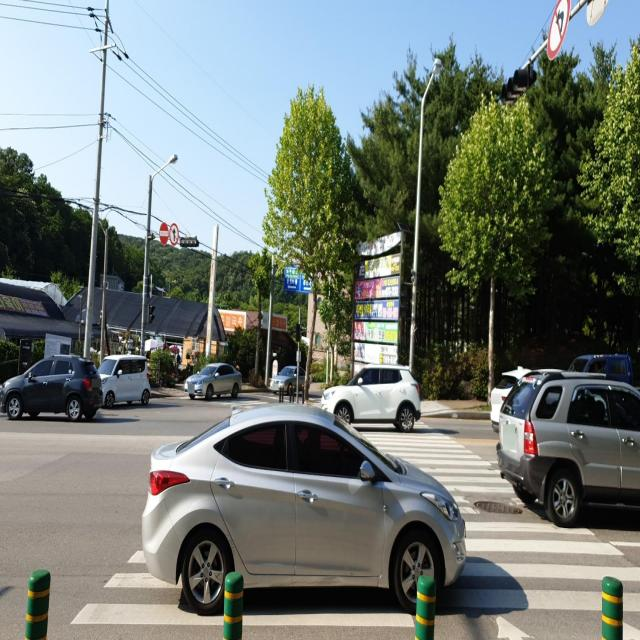횡단보도: (66, 413, 640, 640)
